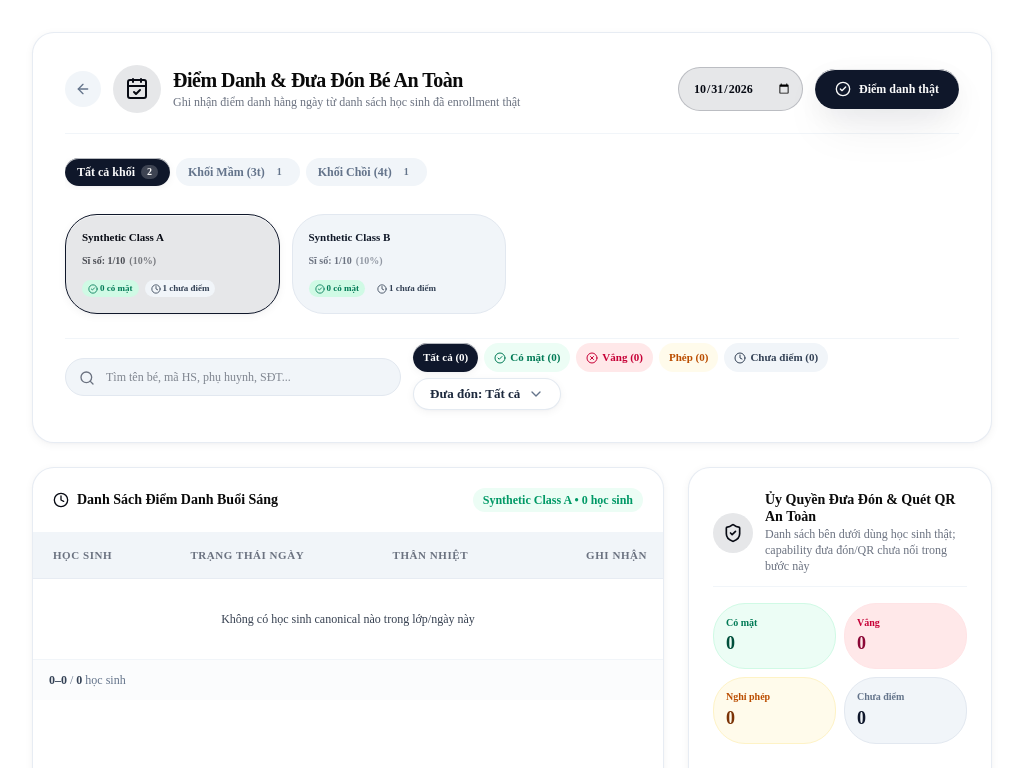
Test: ignores a late old-course success after the selected course has loaded
What coordinates should you click on to do the following:
click the button "Synthetic Class B Sĩ số: 1/10(10%) 0 có mặt 1 chưa điểm"
I would click on:
 (399, 264)
Its box is [292,214,506,314].
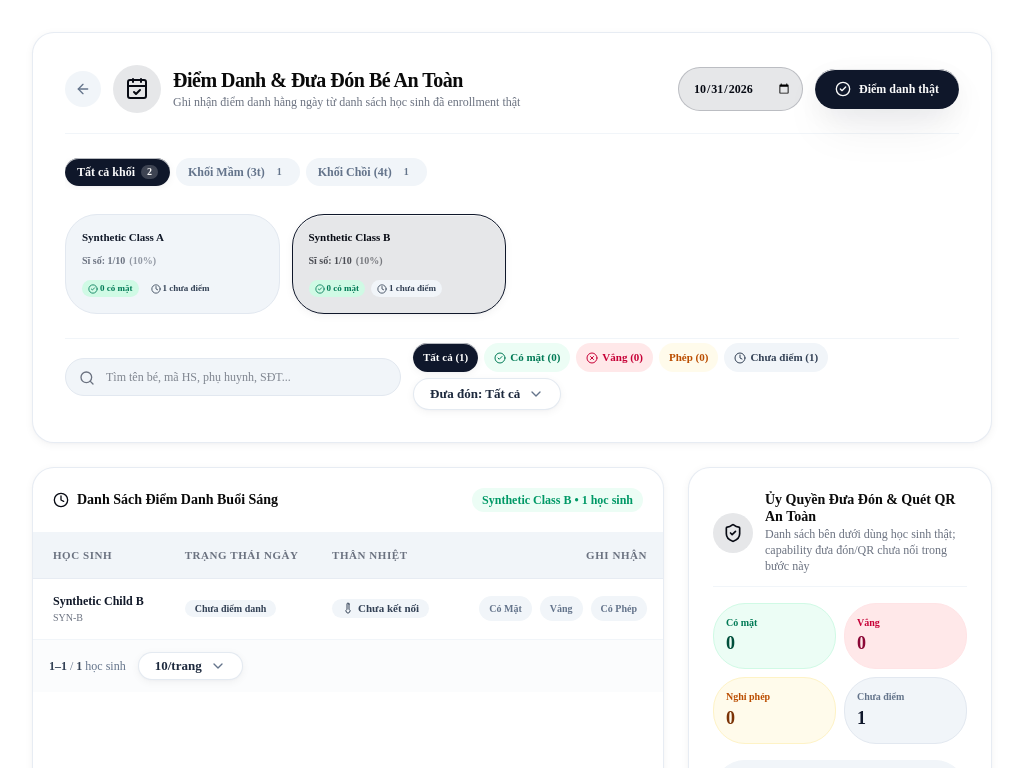
expect the text "Synthetic Child B" is shown: met, box [53,593,153,609]
